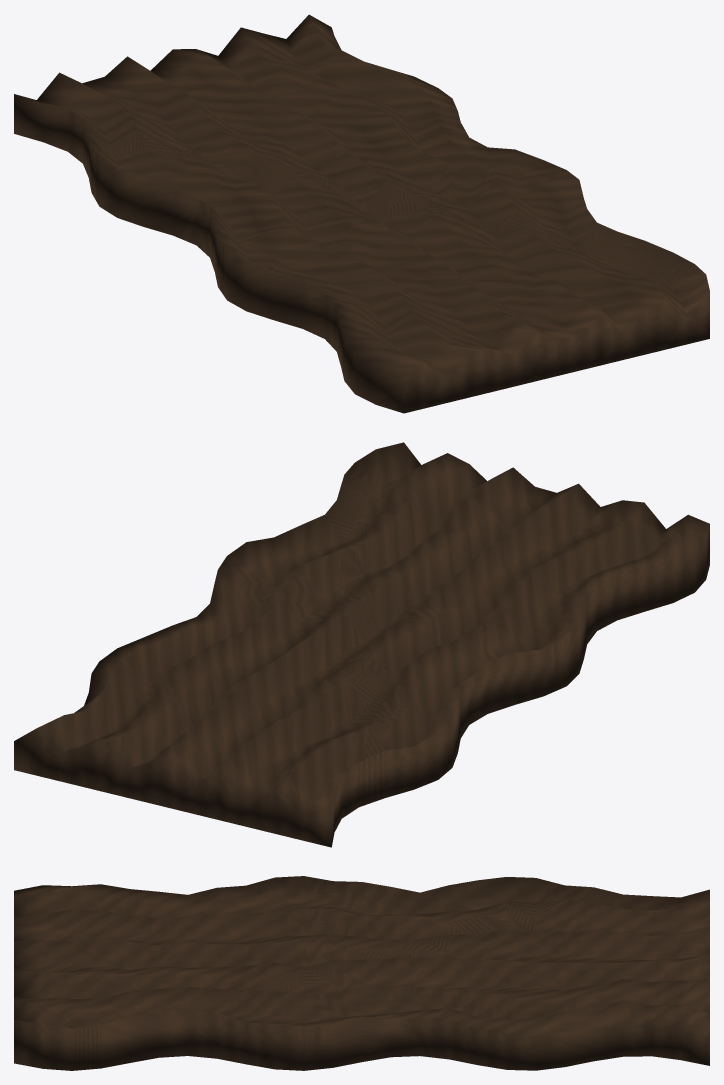
The model's file is bark_chip.fbx.
3 views of the same model, one above another, from view 1: azimuth 30°, elevation 25°; view 2: azimuth 150°, elevation 25°; view 3: azimuth 270°, elevation 25° (orthographic). The views are drawn at different scales.
Visible parts, largest first — view 1: bark_chip; view 2: bark_chip; view 3: bark_chip.
Boxes of the visible parts, x1,y1,x2,y2 form: bark_chip: (14,14,709,413); bark_chip: (14,442,709,847); bark_chip: (14,876,709,1070).
Size of the model in its own units: 4.6 by 0.6846 by 9.
